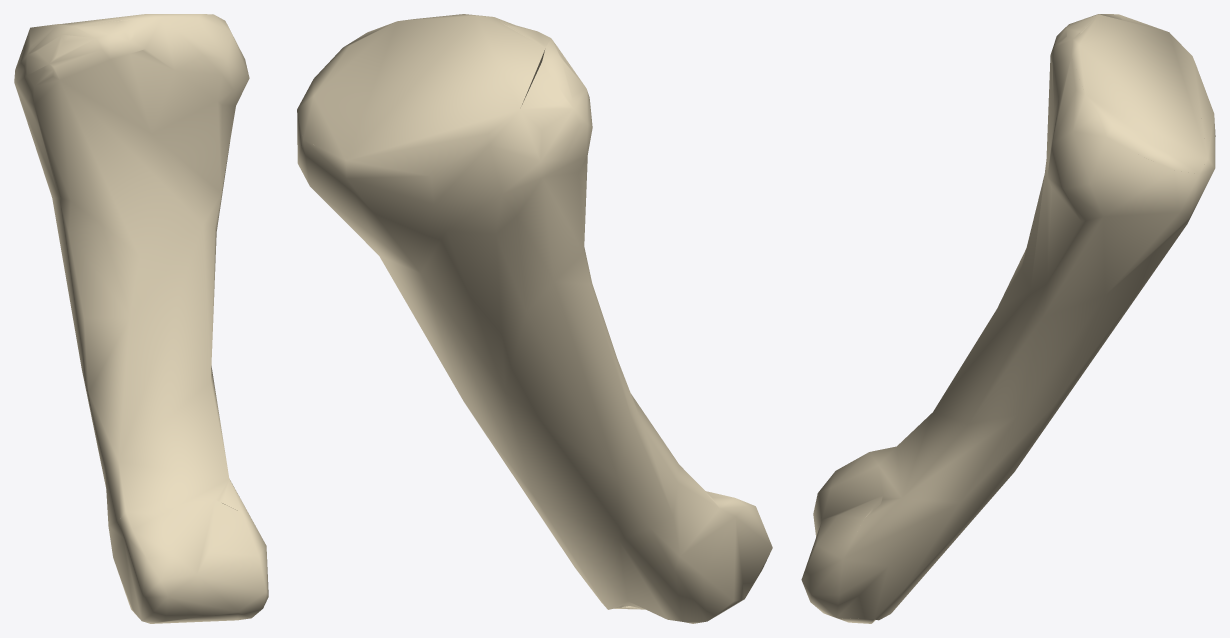
The model's file is esqueleto-proximal-phalanx-of-fifth-finger-of-hand-l.glb.
The picture shows the model from 3 angles, left to right: view 1: azimuth 30°, elevation 25°; view 2: azimuth 150°, elevation 25°; view 3: azimuth 270°, elevation 25°; orthographic projection. The views are drawn at different scales.
Visible parts, largest first — view 1: Proximal phalanx of fifth finger of hand.l; view 2: Proximal phalanx of fifth finger of hand.l; view 3: Proximal phalanx of fifth finger of hand.l.
Part boxes in pixels (x1=…): Proximal phalanx of fifth finger of hand.l: x1=14, y1=14, x2=268, y2=623; Proximal phalanx of fifth finger of hand.l: x1=297, y1=14, x2=772, y2=623; Proximal phalanx of fifth finger of hand.l: x1=801, y1=14, x2=1215, y2=623.
Size of the model in its own units: 0.0148 by 0.0338 by 0.0216.
